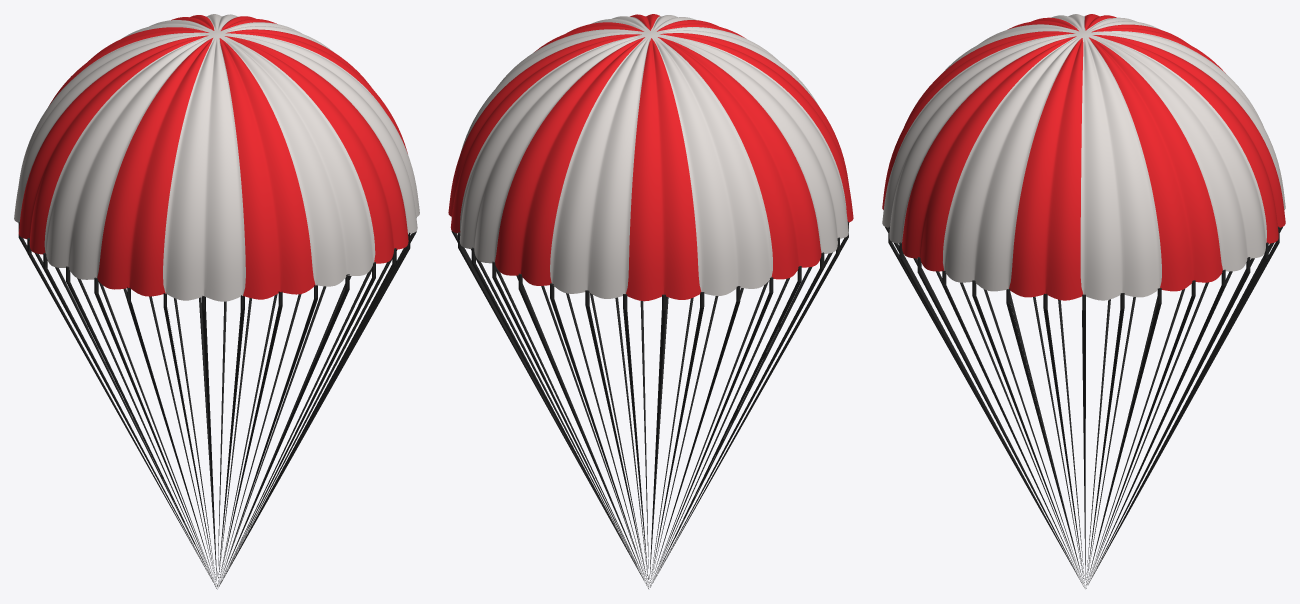
File: ParachuteFirst.fbx
3 renders of one model, left to right at view 1: azimuth 30°, elevation 25°; view 2: azimuth 150°, elevation 25°; view 3: azimuth 270°, elevation 25°, orthographic.
Parts seen in each view (by area): view 1: ParachuteFirst.002, Cylinder; view 2: ParachuteFirst.002, Cylinder; view 3: ParachuteFirst.002, Cylinder.
Boxes of the visible parts, <box> form: ParachuteFirst.002: <box>14,14,419,301</box>; Cylinder: <box>18,217,416,589</box>; ParachuteFirst.002: <box>448,14,853,301</box>; Cylinder: <box>451,217,848,588</box>; ParachuteFirst.002: <box>882,14,1285,300</box>; Cylinder: <box>885,226,1282,588</box>.
Size of the model in its own units: 196 by 298 by 196.
